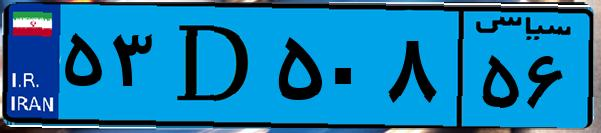0: (330, 28, 385, 110)
3: (110, 28, 158, 98)
5: (270, 28, 330, 110), (57, 26, 110, 100), (475, 38, 525, 113)
6: (525, 38, 570, 115)
8: (385, 28, 445, 110)
D: (158, 12, 270, 120)
